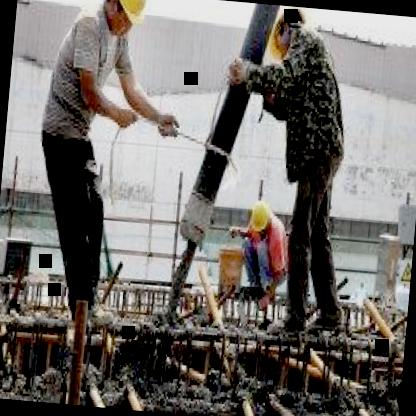helmet: (264, 5, 312, 60), (97, 0, 152, 43), (244, 195, 275, 246)
